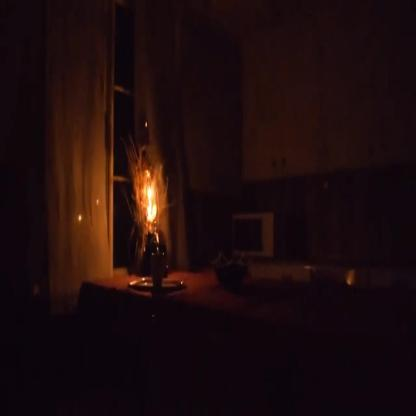fire: (141, 166, 162, 230)
